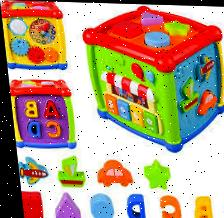cube: (0, 0, 68, 70), (7, 78, 72, 149)
